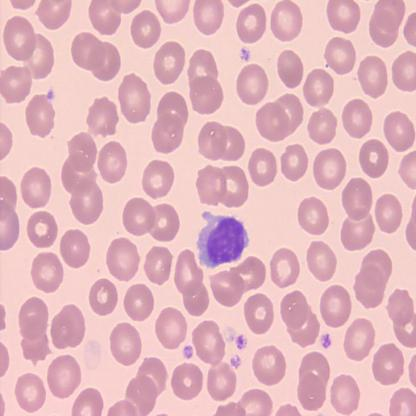Lymphocyte: (197, 210, 250, 270)
